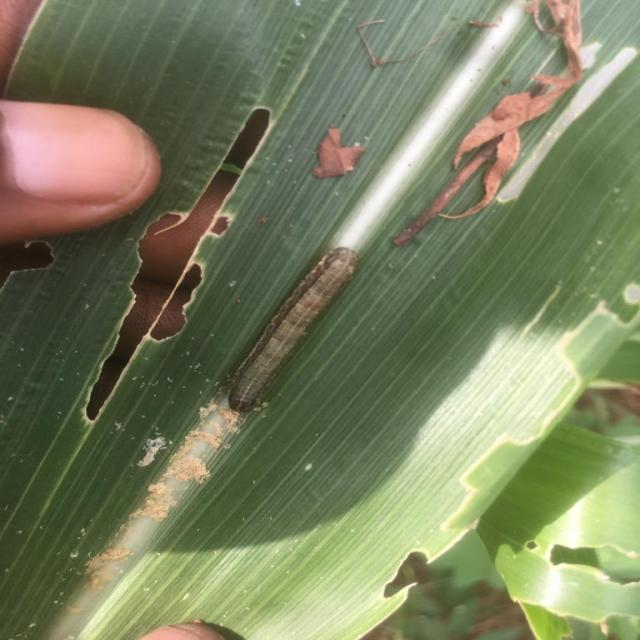yellow-stem-borer-larva: (219, 232, 386, 417)
